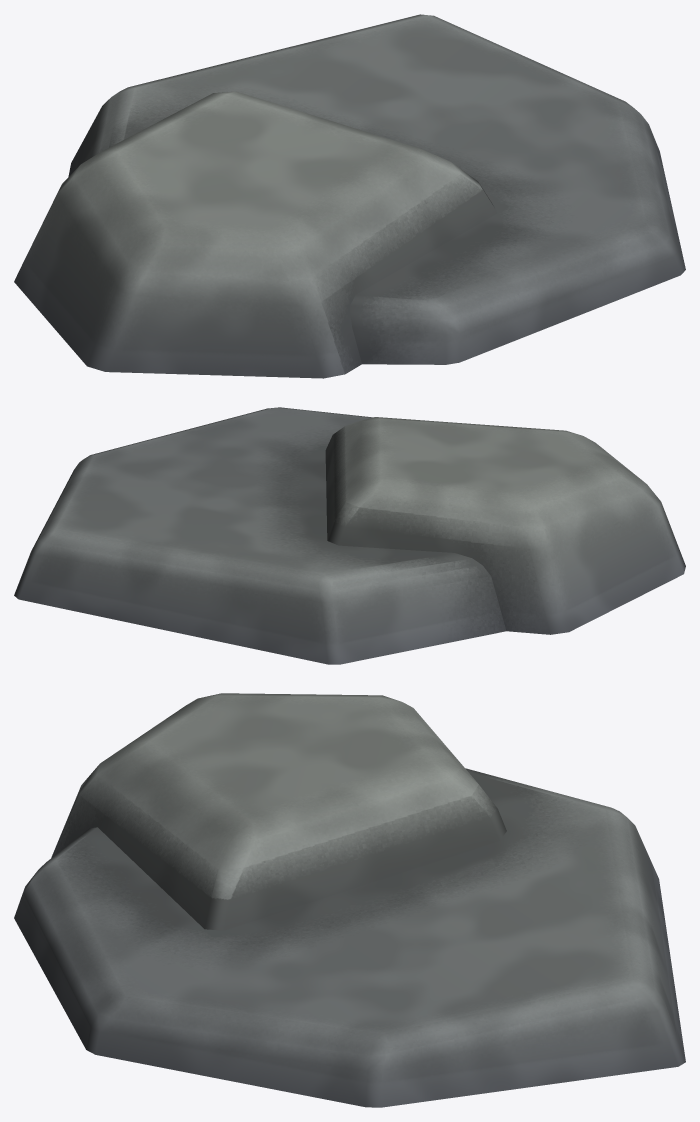
File: slab_1.glb
3 views of the same model, one above another, from view 1: azimuth 30°, elevation 25°; view 2: azimuth 150°, elevation 25°; view 3: azimuth 270°, elevation 25° (orthographic). The views are drawn at different scales.
Parts seen in each view (by area): view 1: slab_1; view 2: slab_1; view 3: slab_1.
Boxes of the visible parts, box(x1,y1,x2,y2) form: slab_1: box(14, 14, 685, 378); slab_1: box(14, 407, 685, 664); slab_1: box(14, 693, 685, 1107).
Size of the model in its own units: 2.6 by 0.5 by 2.2.
Materials: 1 (1 with a texture image).
